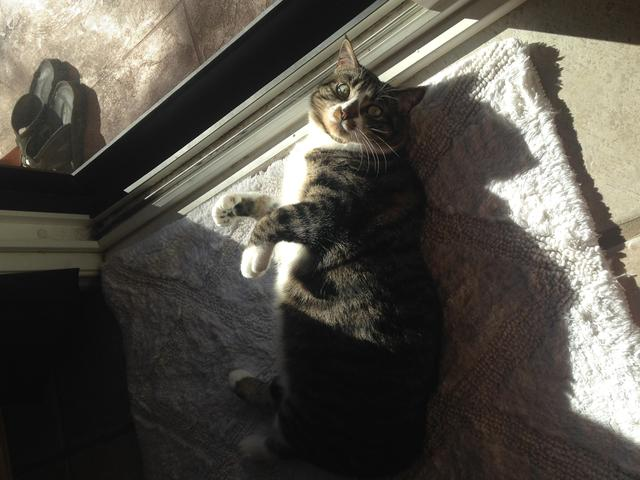playdoh: (212, 28, 442, 468)
